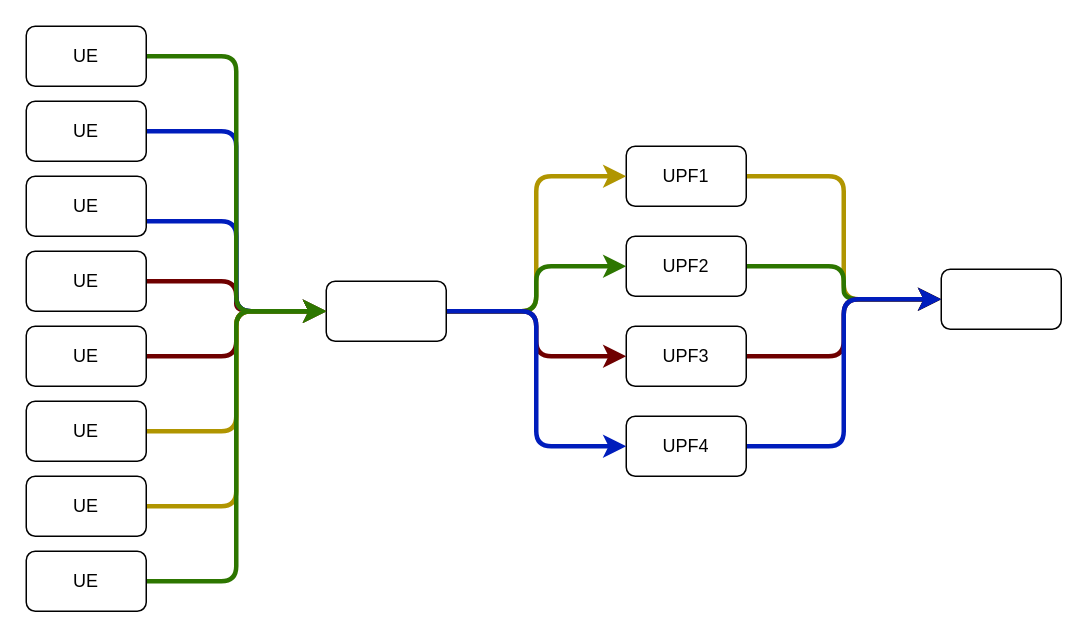
Some shapes in this 1088 by 638 pixel diagram are drawn without their labels. The shapes that lost their labels are listed below. From the top down, each one's centre as x and y in pixels, then its label:
At point 385,310: "GNB".
At point 1000,298: "IPERF".
